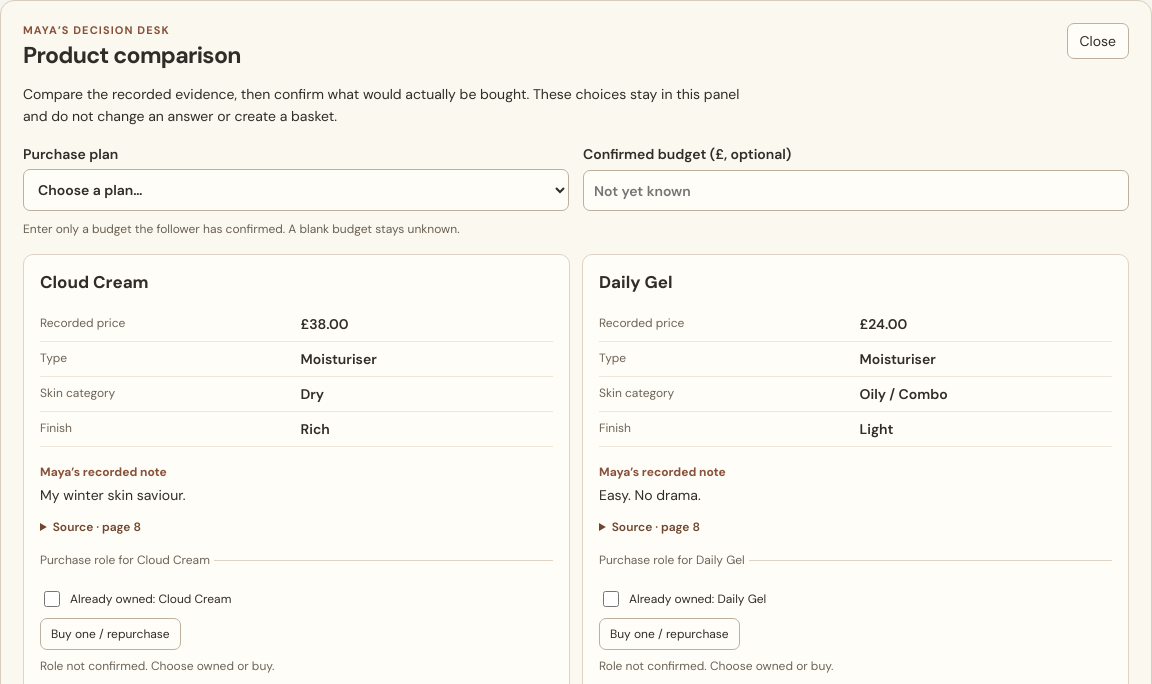
Scenario: Product comparison panel › separates alternative prices and computes a confirmed basket only after choosing roles
The image size is (1152, 684).
Select "Choose one alternative" in the dropdown labelled "Purchase plan": (296,190) [23,169,569,211]
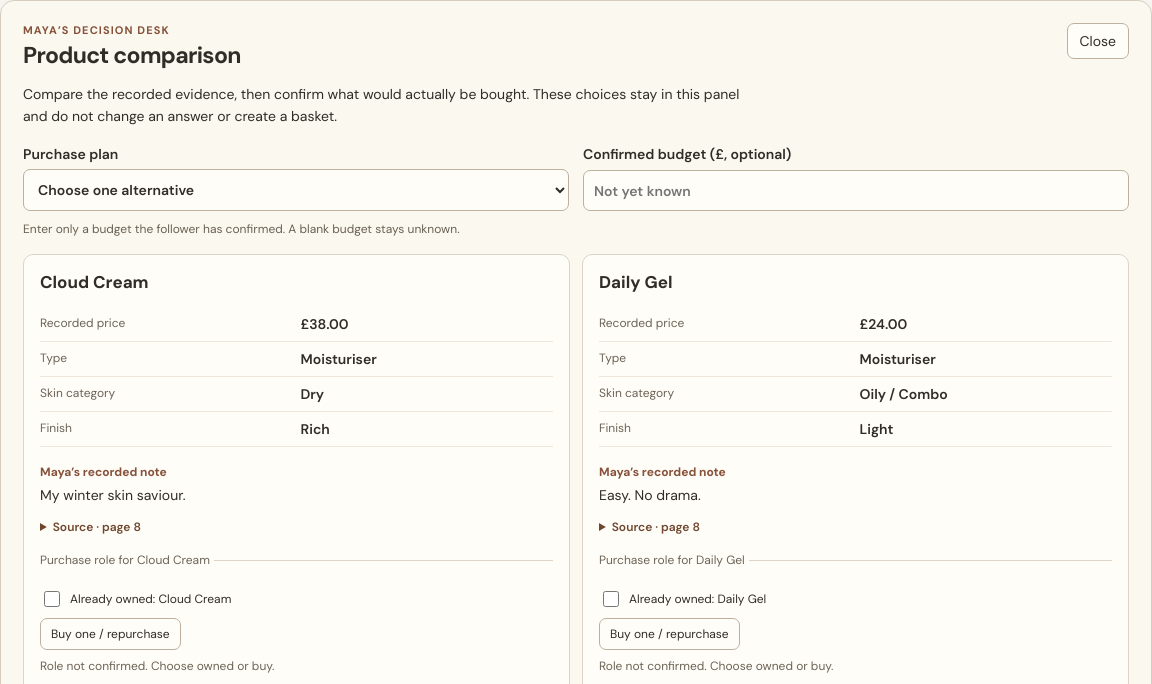
Click the button with aria-label "Buy one or repurchase Cloud Cream": (110,634) [40,618,181,650]
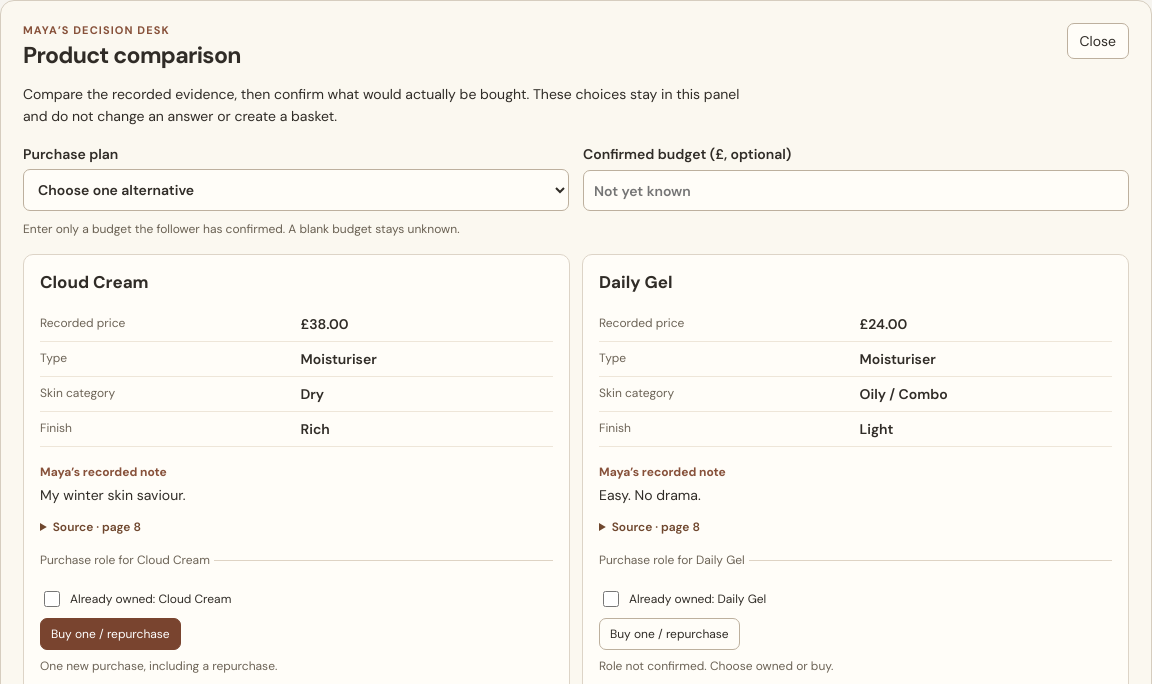
Click the button with aria-label "Buy one or repurchase Daily Gel": (669,634) [599,618,740,650]
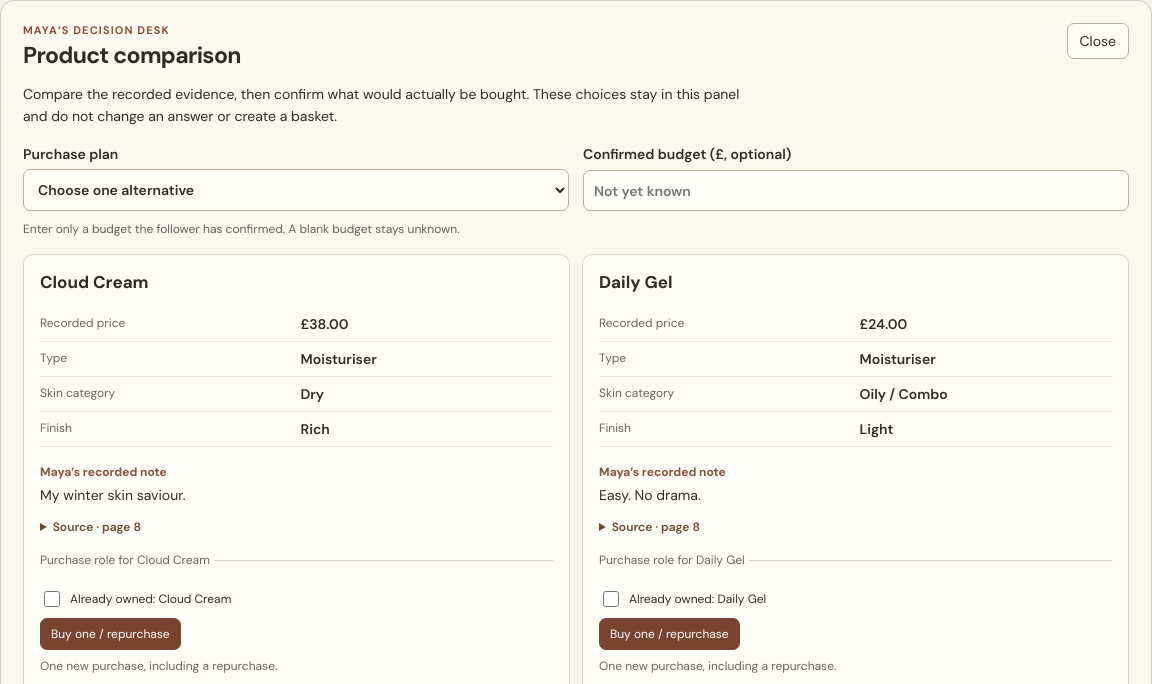
Select "Buy together" in the dropdown labelled "Purchase plan": (296,190) [23,169,569,211]
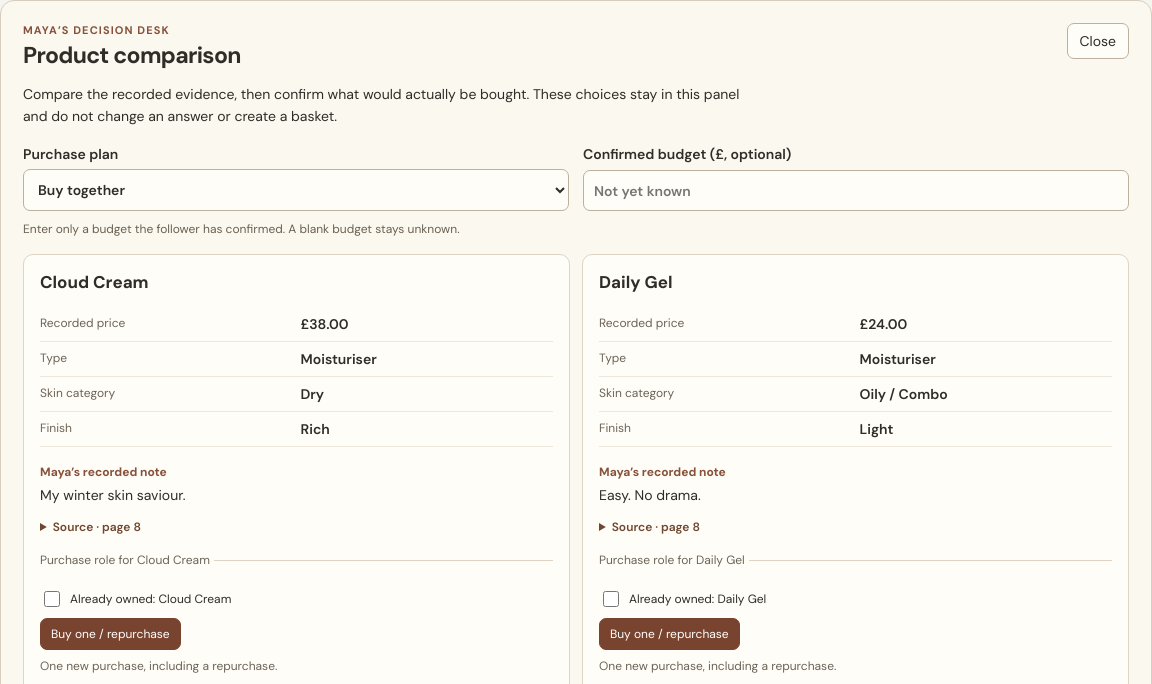
In the field labelled "Confirmed budget (£, optional)": (856,191) [583,170,1129,211], type "60"
(page scrolled)
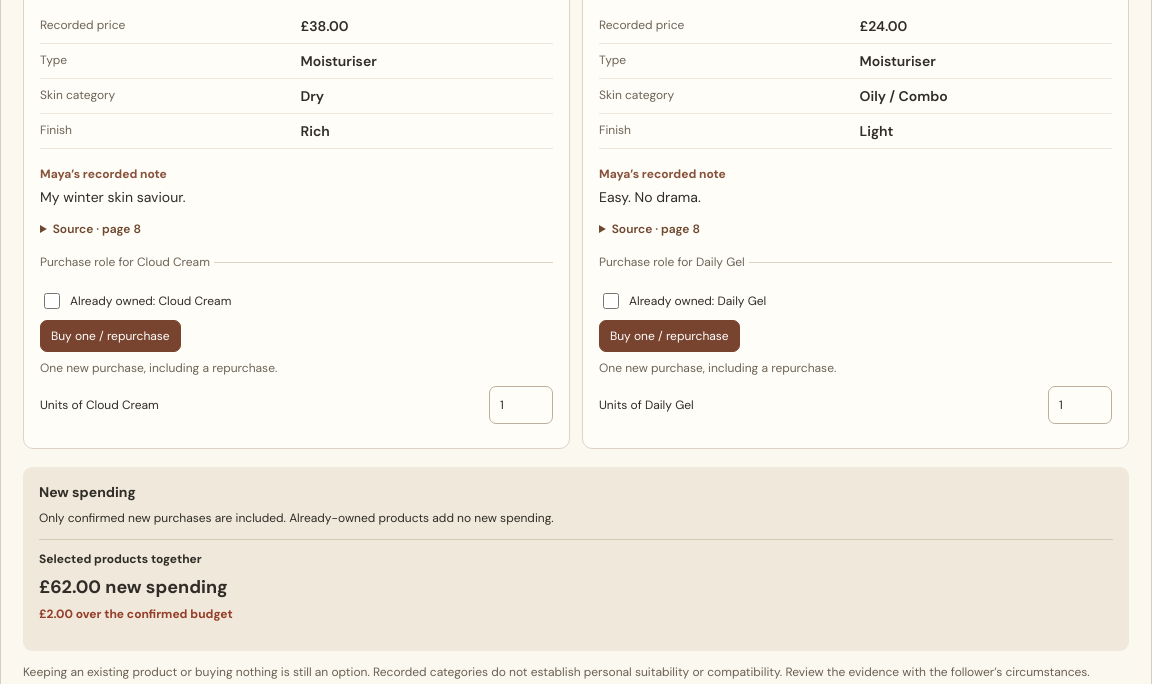
Expected: the text "£62.00 new spending" is shown, [39,575,228,599]
Expected: the text "£2.00 over the confirmed budget" is shown, [39,606,233,622]
